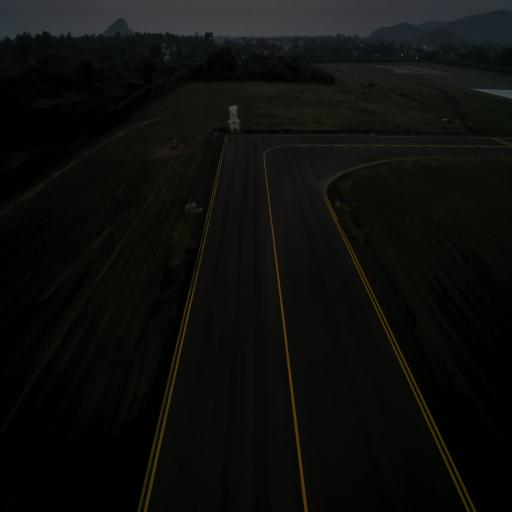on: (337, 197, 341, 203), (192, 198, 195, 204)
